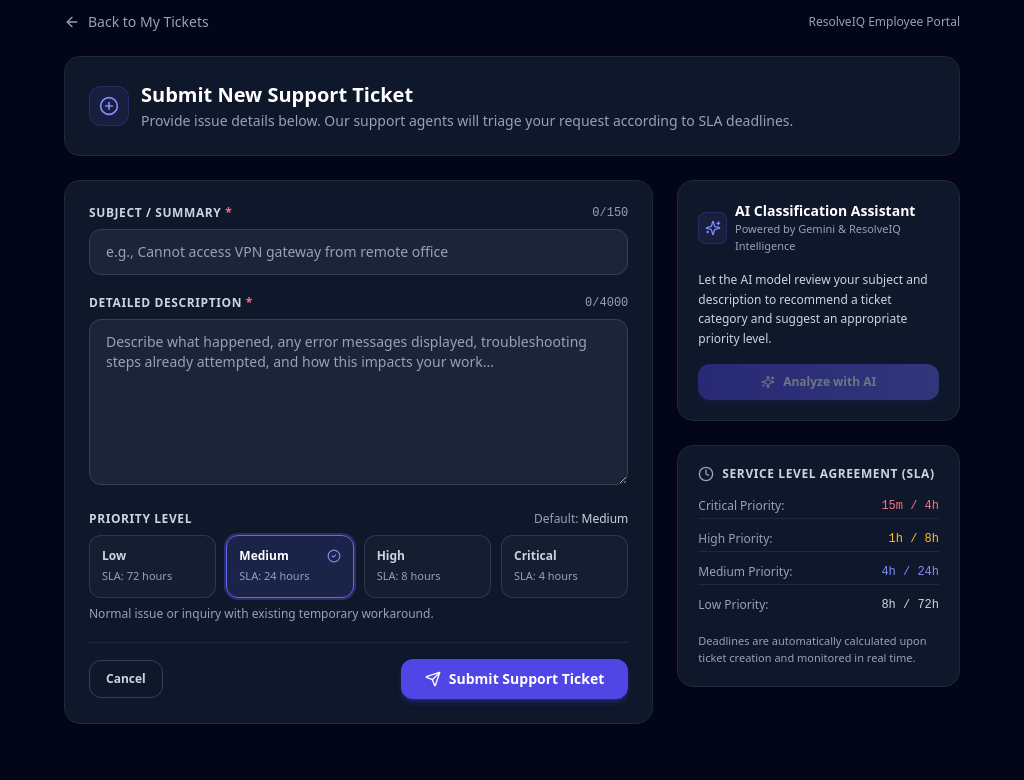
Test: Employee Portal — Dashboard, Create Ticket & My Tickets › CreateTicketPage Component › handles AI service unavailable (503) without blocking form submission
Type "Test issue" into the field labelled "Subject / Summary *" at (359, 252), box [89,229,628,275]
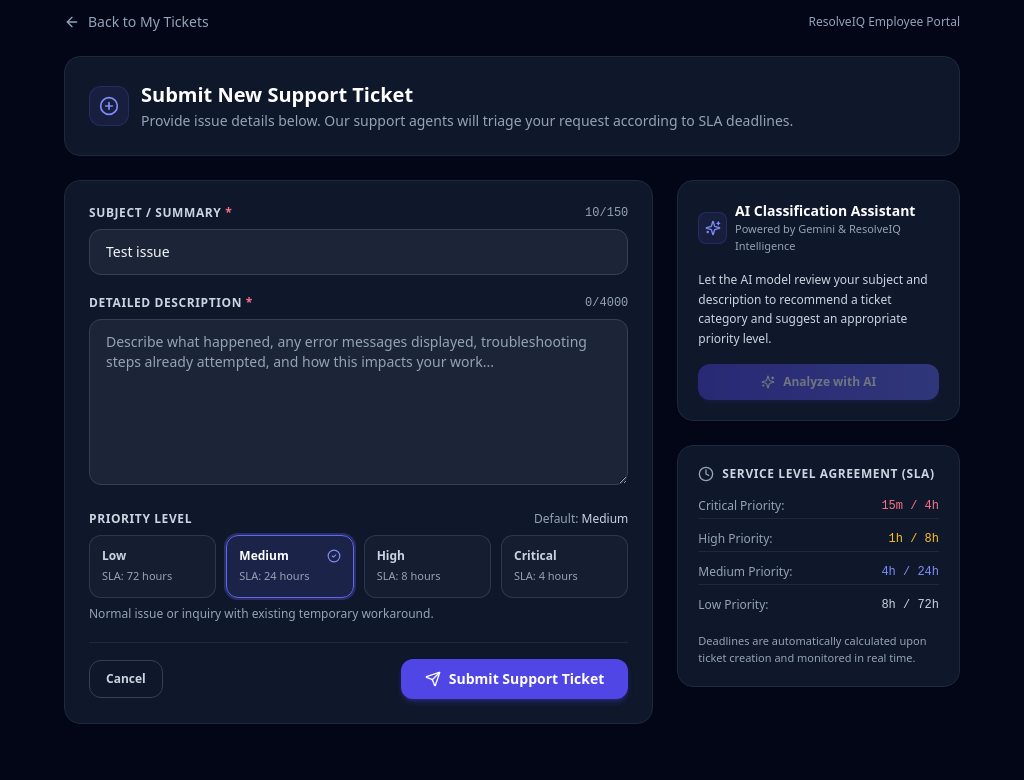
Replace the text in the text box labelled "Detailed Description *" with "Test description content" at (359, 402), box [89,319,628,485]
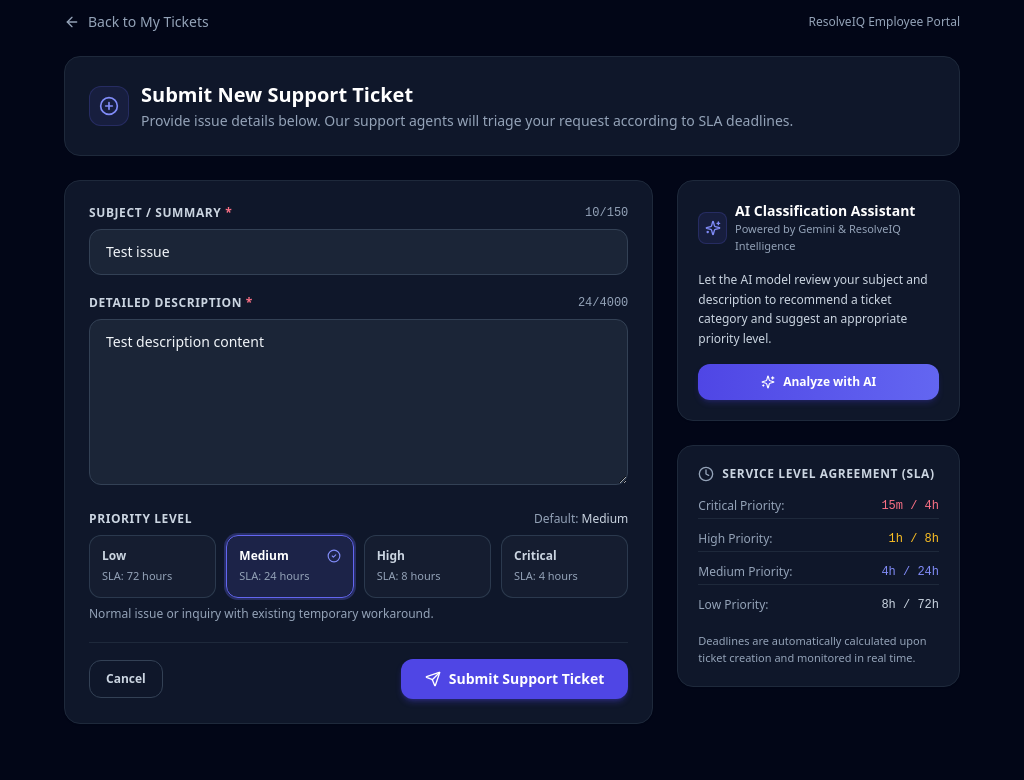
Click the button "Analyze with AI" at (819, 382), box [698,364,939,400]
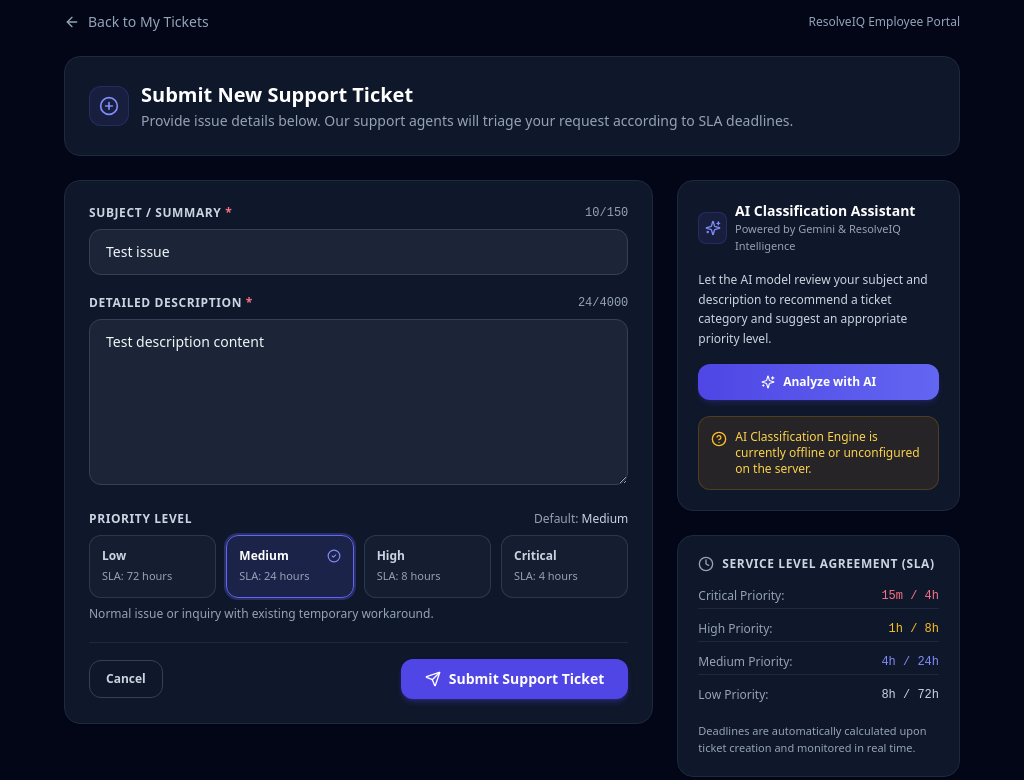
Expected: the button "Submit Support Ticket" is enabled, [401,658,628,698]
Result: the text "AI Classification Engine is currently offline or unconfigured" is shown at [735,428,920,477]
